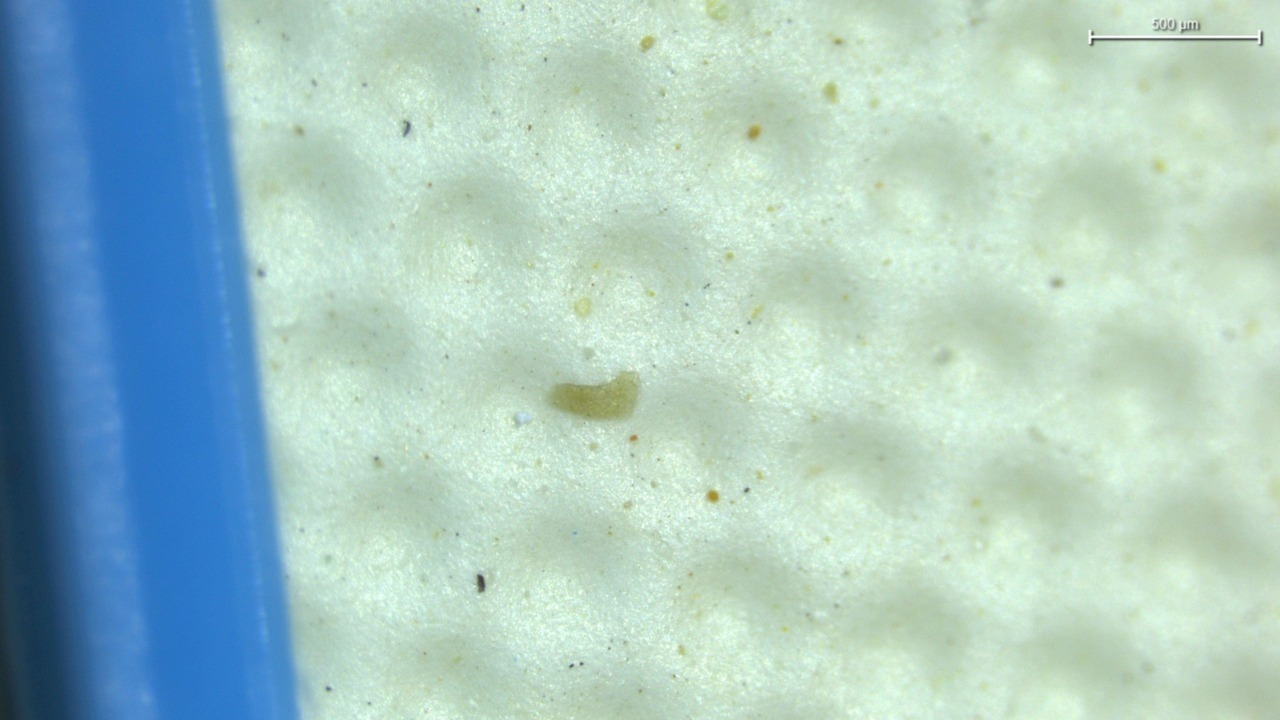microplastic_fragment: (551, 371, 640, 419)
